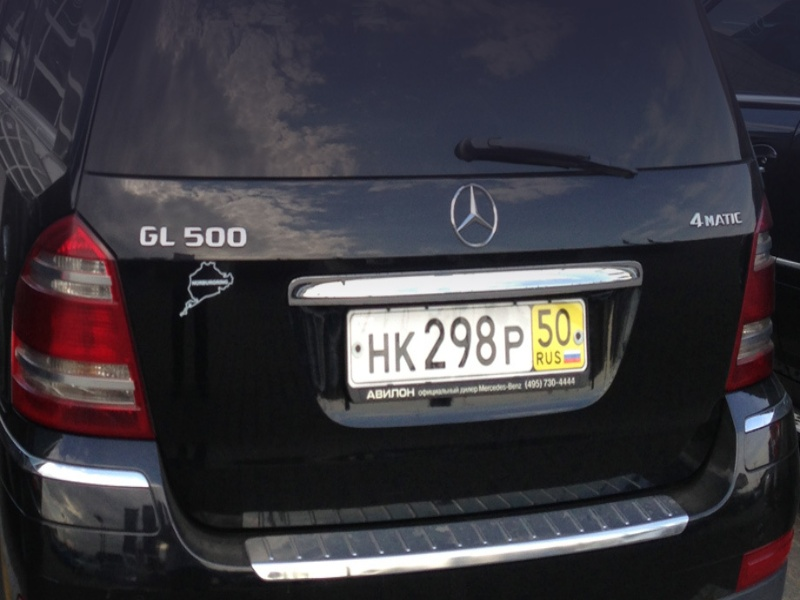car: (1, 1, 800, 600)
plate: (345, 297, 590, 386)
